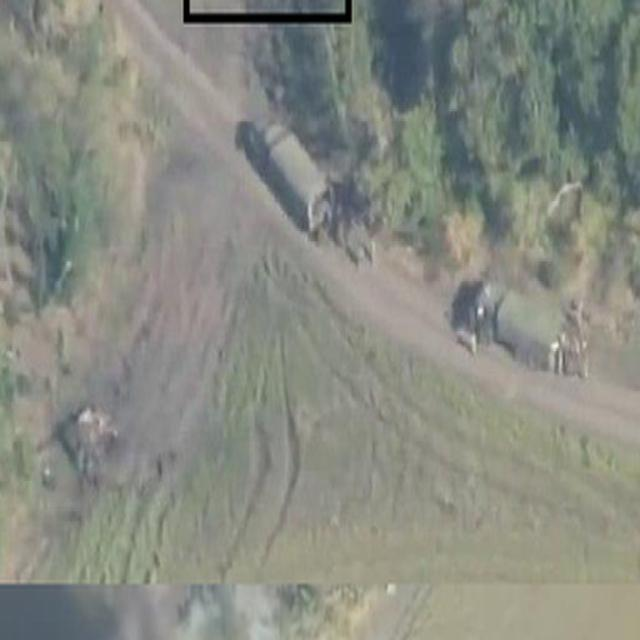TRUCK: (239, 96, 336, 242), (458, 262, 572, 384)
